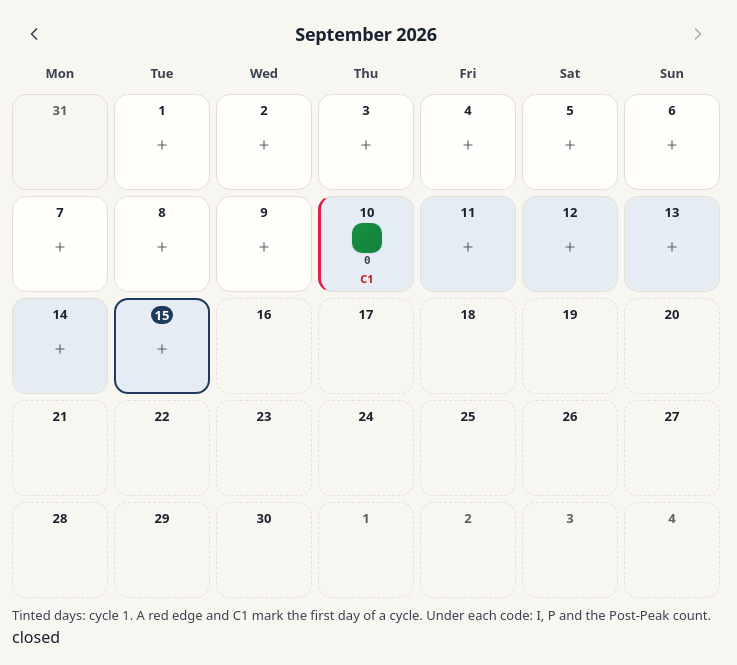
CalendarGrid navigation and selection › opens the drawer with the saved observation of a day
Click the button named "Date 2026-09-10, Observation 0, first day of cycle 1".
click(366, 244)  # box [318,196,414,292]
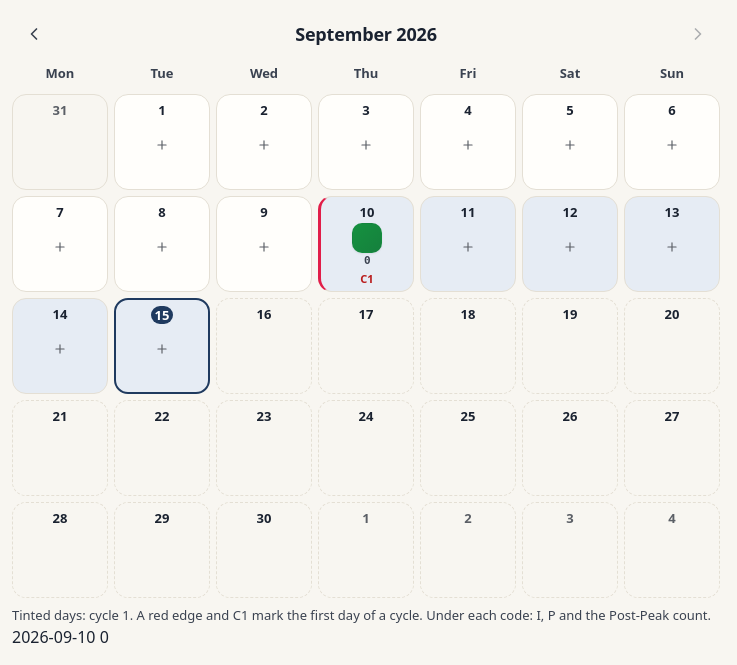
Now the text with test id "drawer" reads "2026-09-10 0", box [12,626,109,648]
